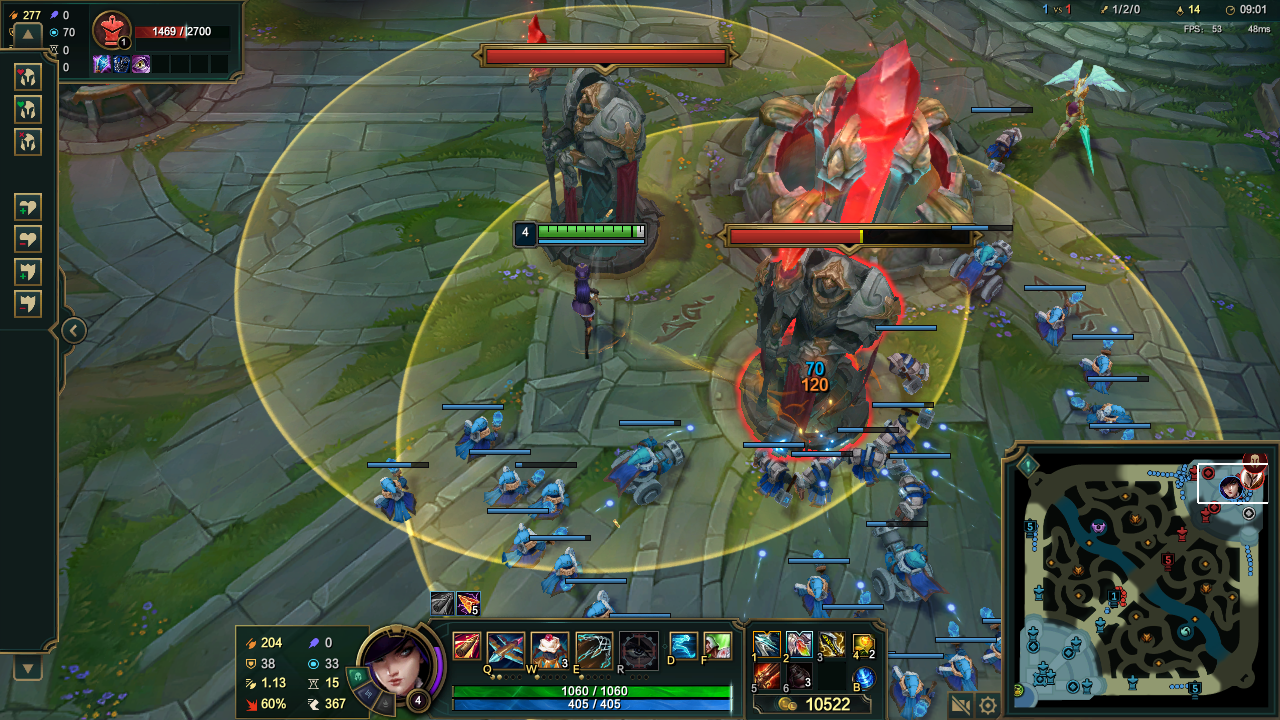DFDSJ: (735, 68, 983, 243)
DFFYT: (497, 55, 675, 265), (736, 232, 893, 459)
